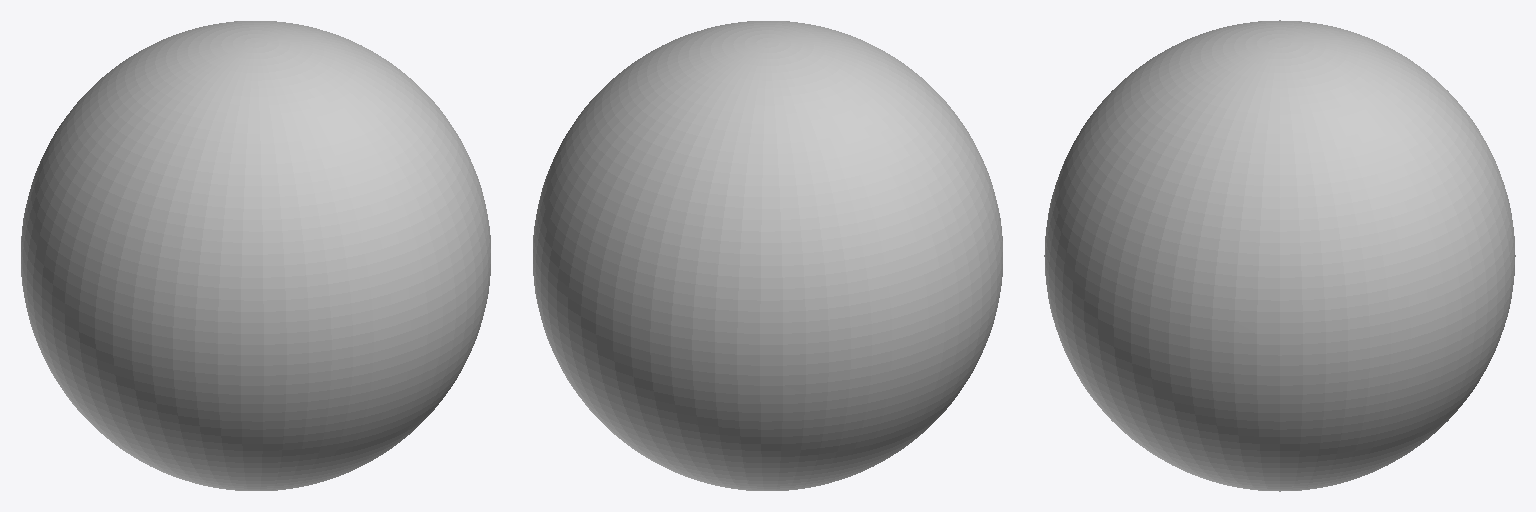
File: ggsphere.obj
The picture shows the model from 3 angles: view 1: azimuth 30°, elevation 25°; view 2: azimuth 150°, elevation 25°; view 3: azimuth 270°, elevation 25°; orthographic projection.
Parts seen in each view (by area): view 1: Sphere_Sphere.002; view 2: Sphere_Sphere.002; view 3: Sphere_Sphere.002.
Part boxes in pixels (x1,y1,x2,y2): Sphere_Sphere.002: (21, 21, 490, 490); Sphere_Sphere.002: (533, 21, 1002, 490); Sphere_Sphere.002: (1044, 20, 1515, 491).
Size of the model in its own units: 2 by 2 by 2.